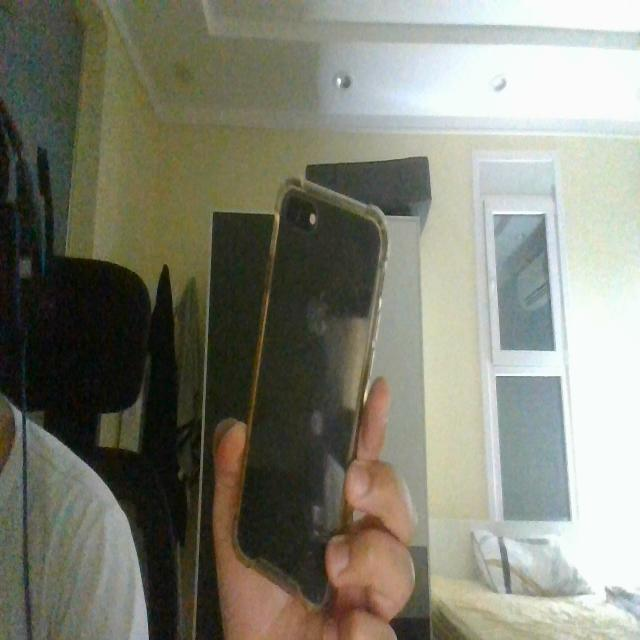Phone: (228, 179, 390, 608)
